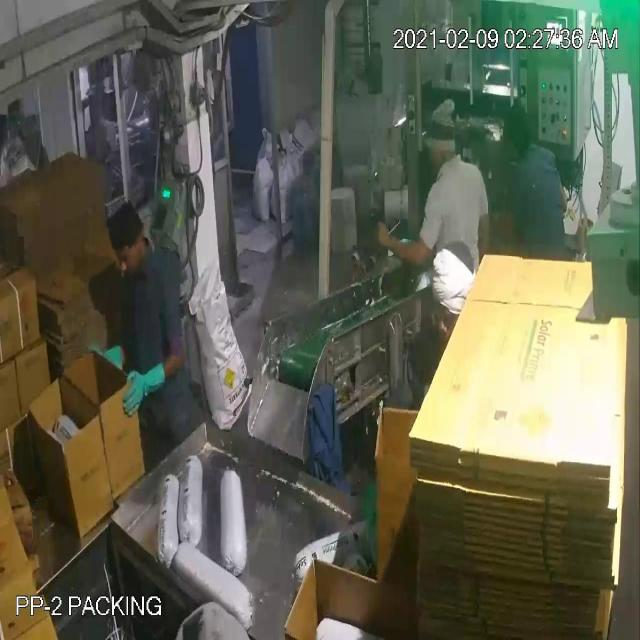Gloves: (40, 40, 402, 384)
